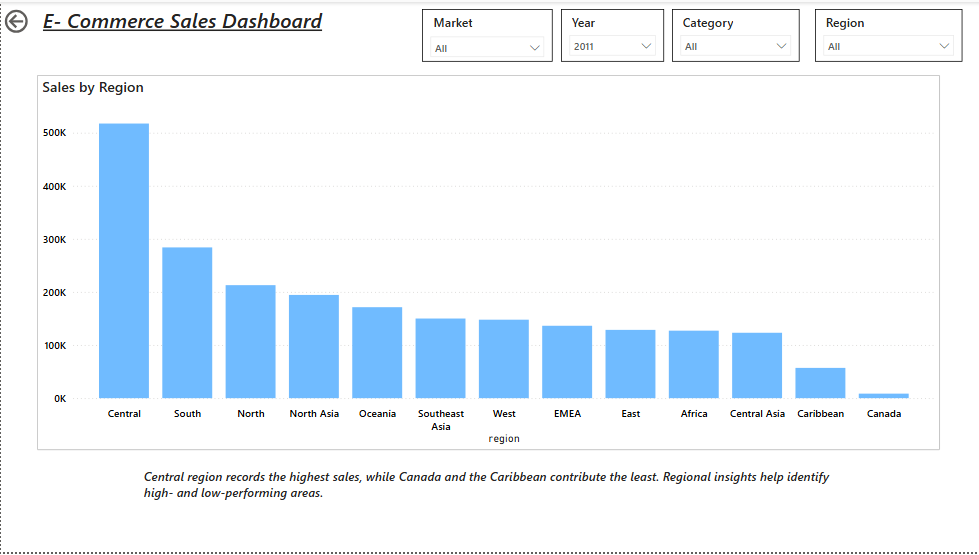

What the dashboard file says about the page in this screenshot:
{"tool":"powerbi","page":{"name":"Regional Analysis","canvas":[1280,720],"ordinal":1},"visuals":[{"type":"columnChart","title":"Sales by Region","fields":{"Category":["E-Commerce.region"],"Y":["E-Commerce.Total_Sales"]},"box":[47.5,95,1182.2,491],"z":0},{"type":"slicer","fields":{"Values":["E-Commerce.market"]},"box":[551.5,8.6,171.4,69.1],"z":1000},{"type":"slicer","fields":{"Values":["E-Commerce.year"]},"box":[733,8.6,135.4,69.1],"z":2000},{"type":"slicer","fields":{"Values":["E-Commerce.category"]},"box":[878.4,8.6,167,69.1],"z":3000},{"type":"slicer","fields":{"Values":["E-Commerce.region"]},"box":[1065.6,8.6,193,69.1],"z":4000},{"type":"textbox","box":[181.4,604.8,941.8,67.7],"z":5000},{"type":"textbox","box":[50,0,475,50],"z":7000},{"type":"actionButton","box":[0,5,100,40],"z":8000}]}

Visuals, with their boxes in screenshot pixels (x1, y1, x2, y2), scaled from the page's 1280x720 canvas onto the 979x555 screenshot:
"Sales by Region" columnChart: <region>36, 73, 941, 452</region>
slicer - E-Commerce.market: <region>422, 7, 553, 60</region>
slicer - E-Commerce.year: <region>561, 7, 664, 60</region>
slicer - E-Commerce.category: <region>672, 7, 800, 60</region>
slicer - E-Commerce.region: <region>815, 7, 963, 60</region>
textbox: <region>139, 466, 859, 518</region>
textbox: <region>38, 0, 402, 39</region>
actionButton: <region>0, 4, 76, 35</region>
